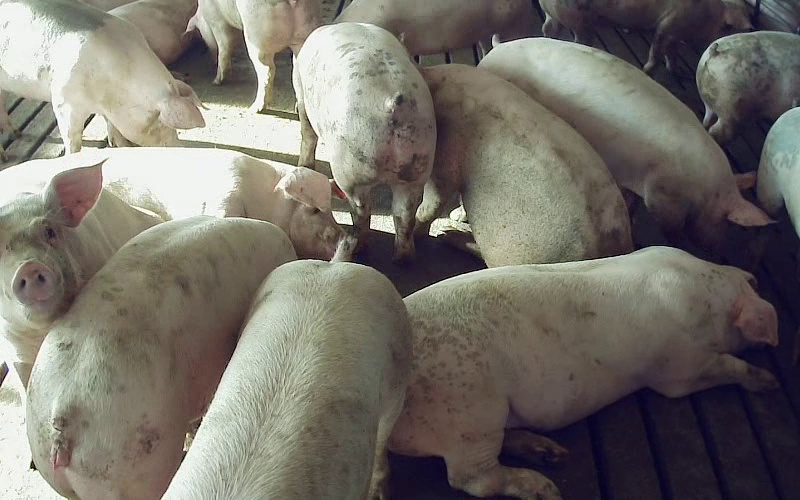pig: (390, 247, 776, 499), (27, 216, 295, 499), (165, 240, 410, 499), (481, 38, 769, 246), (416, 64, 632, 266), (0, 163, 160, 387), (293, 23, 435, 262), (187, 0, 320, 111), (696, 31, 799, 144), (335, 0, 529, 55)
